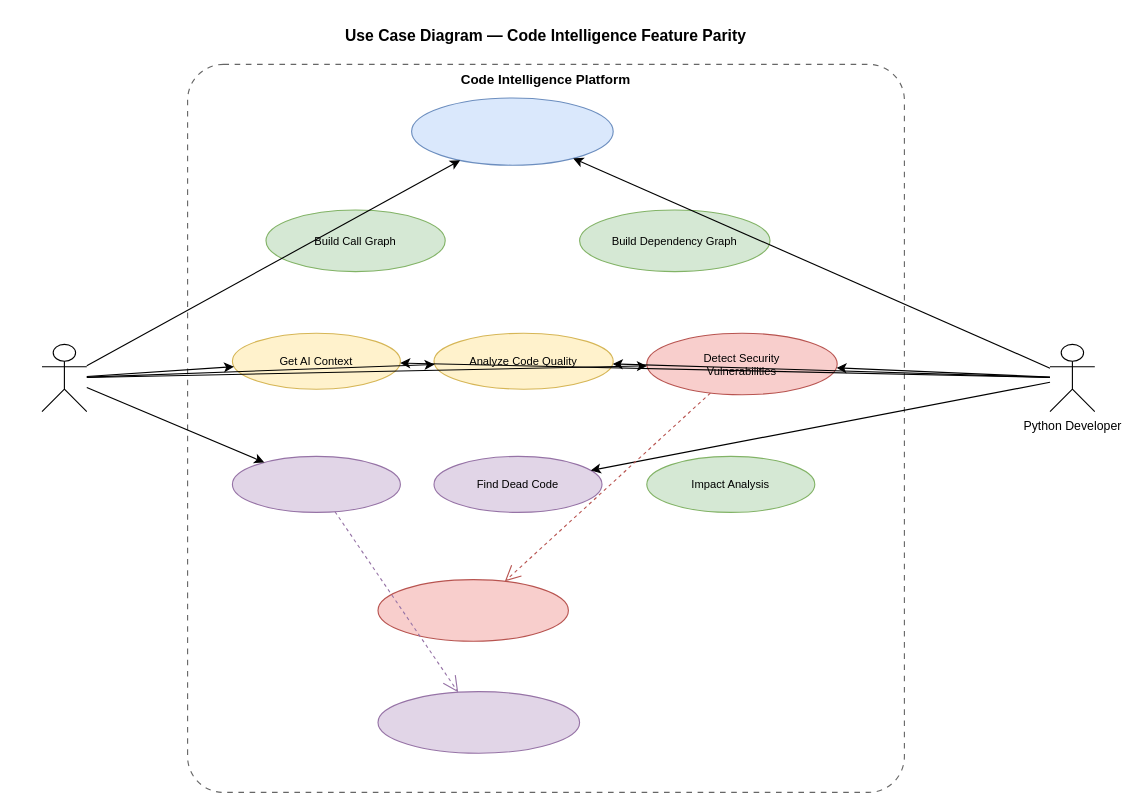
Image size: 1140x812. Some labels were removed from this diagram. The shapes that lost their labels are listed below. From the top down, each one's centre as x and y in pixels, then its label:
At [511,131]: "Parse Source Code (12 languages)".
At [64,377]: "Kotlin Developer".
At [315,483]: "Detect Duplicates".
At [472,609]: "Taint Analysis (Source → Sink)".
At [478,721]: "Code Embeddings (Similarity Scoring)".
